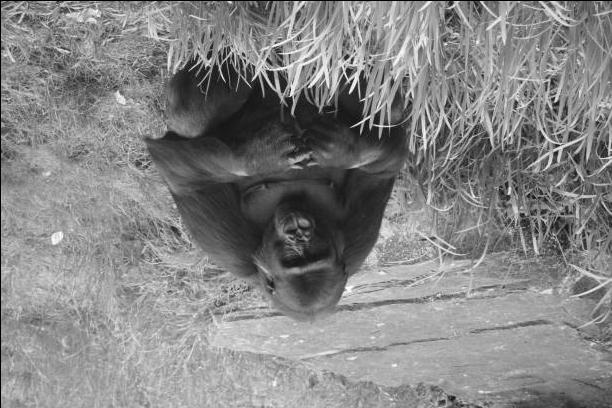gorille_Autres: (139, 52, 429, 356)
